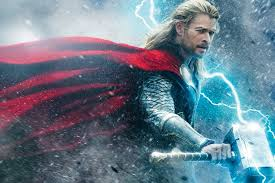THOR Hammer: (141, 113, 270, 175)
